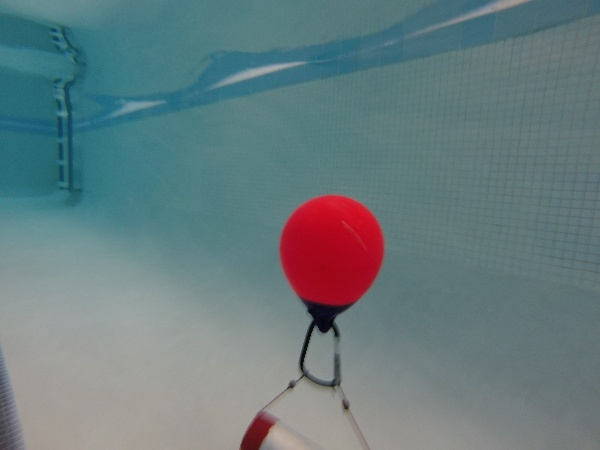buoy_red: (274, 191, 388, 332)
